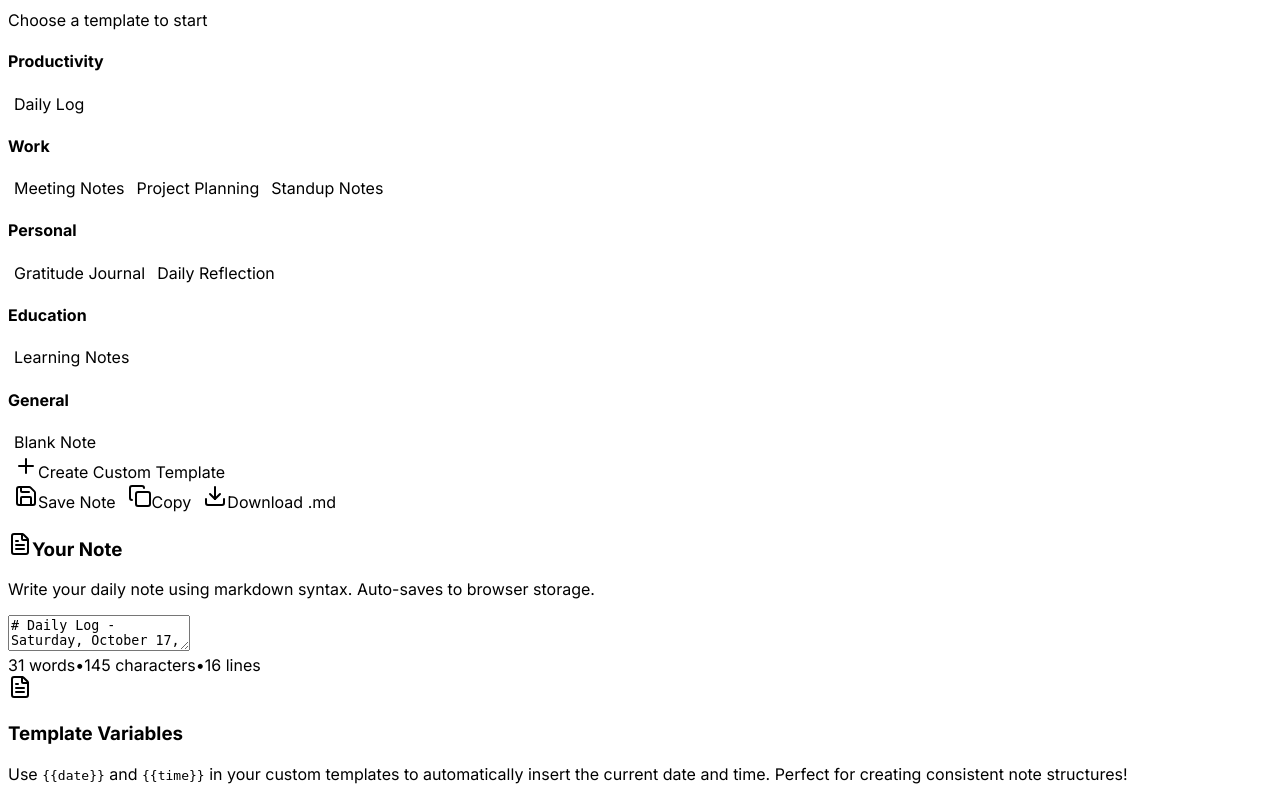
Scenario: Daily Note Page - Recent Notes Tests › should show recent notes after saving
This screenshot has width=1280, height=800.
(page scrolled)
Save a note
Replace the text in the text box with placeholder "Start writing your note here..." with "My first note" at {"x": 99, "y": 633}, box [8,615,190,651]
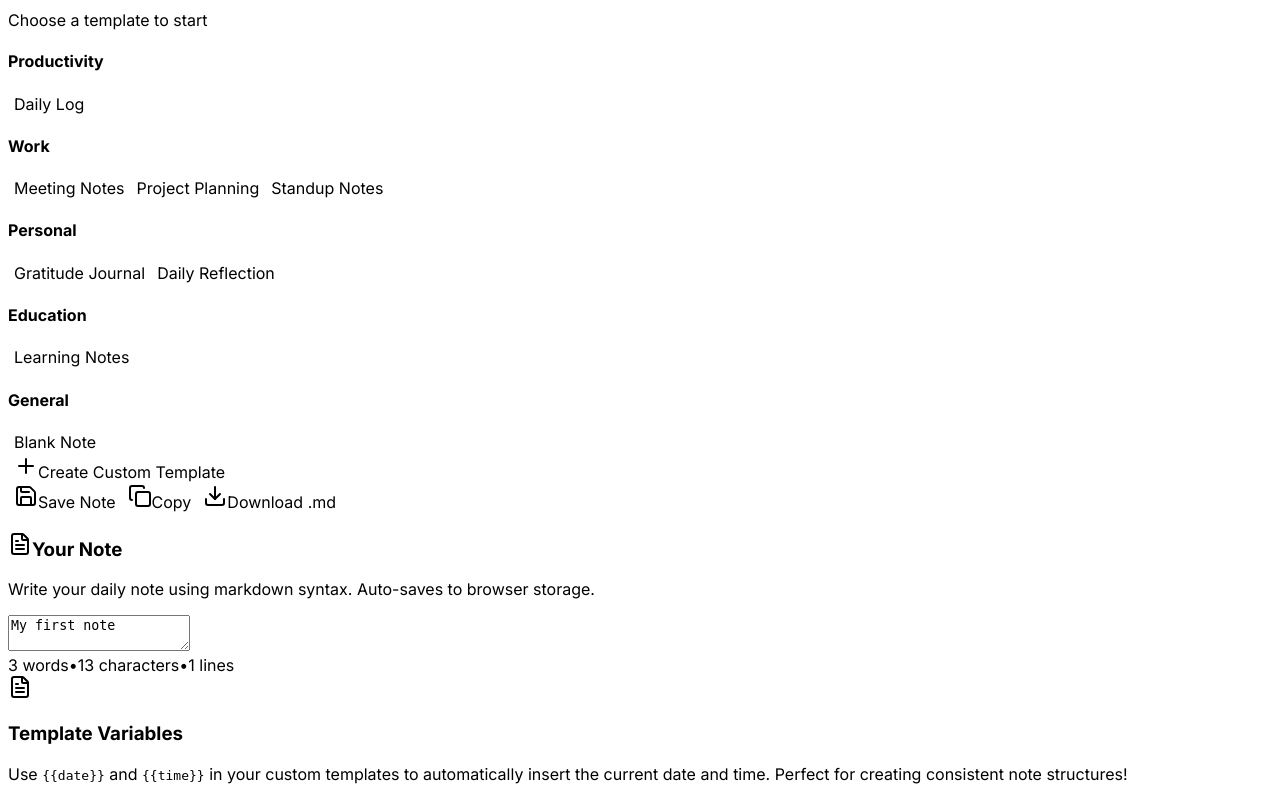
Click the button "Save Note" at {"x": 65, "y": 498}, box [8,483,122,513]
(page scrolled)
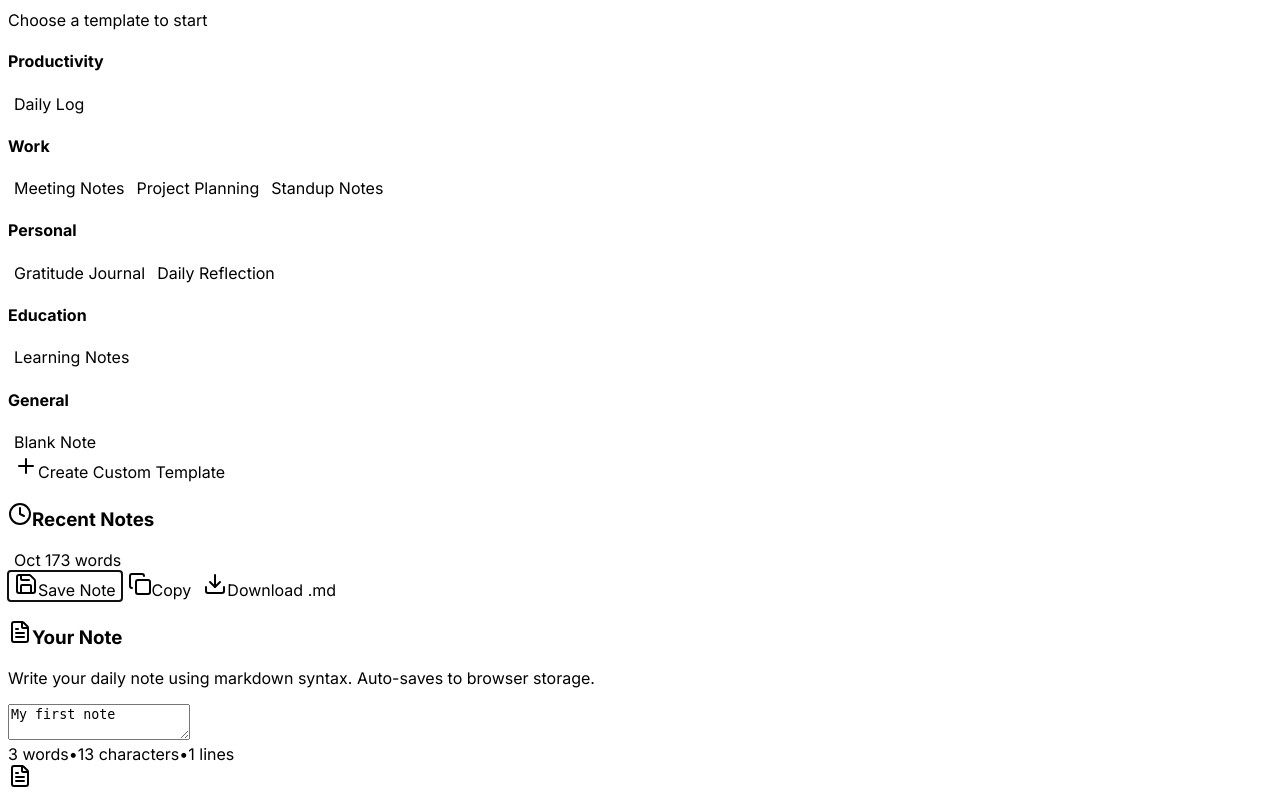
expect the heading "Recent Notes" is shown: met, box [8,502,154,530]
